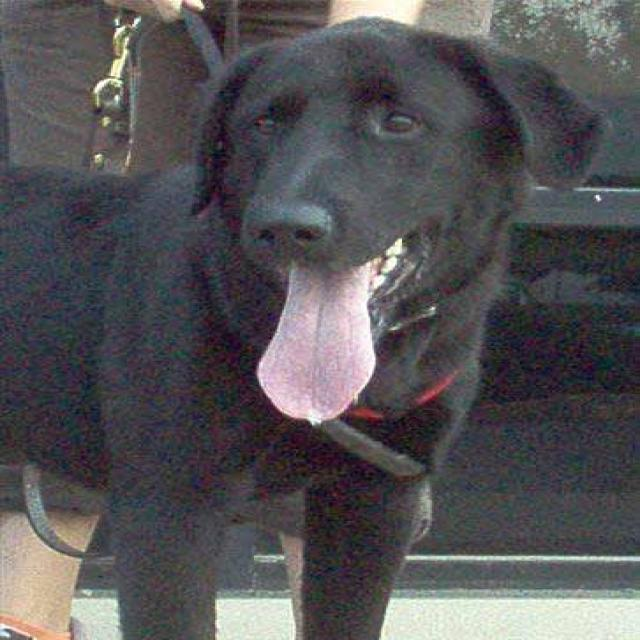dog: (0, 14, 605, 638)
